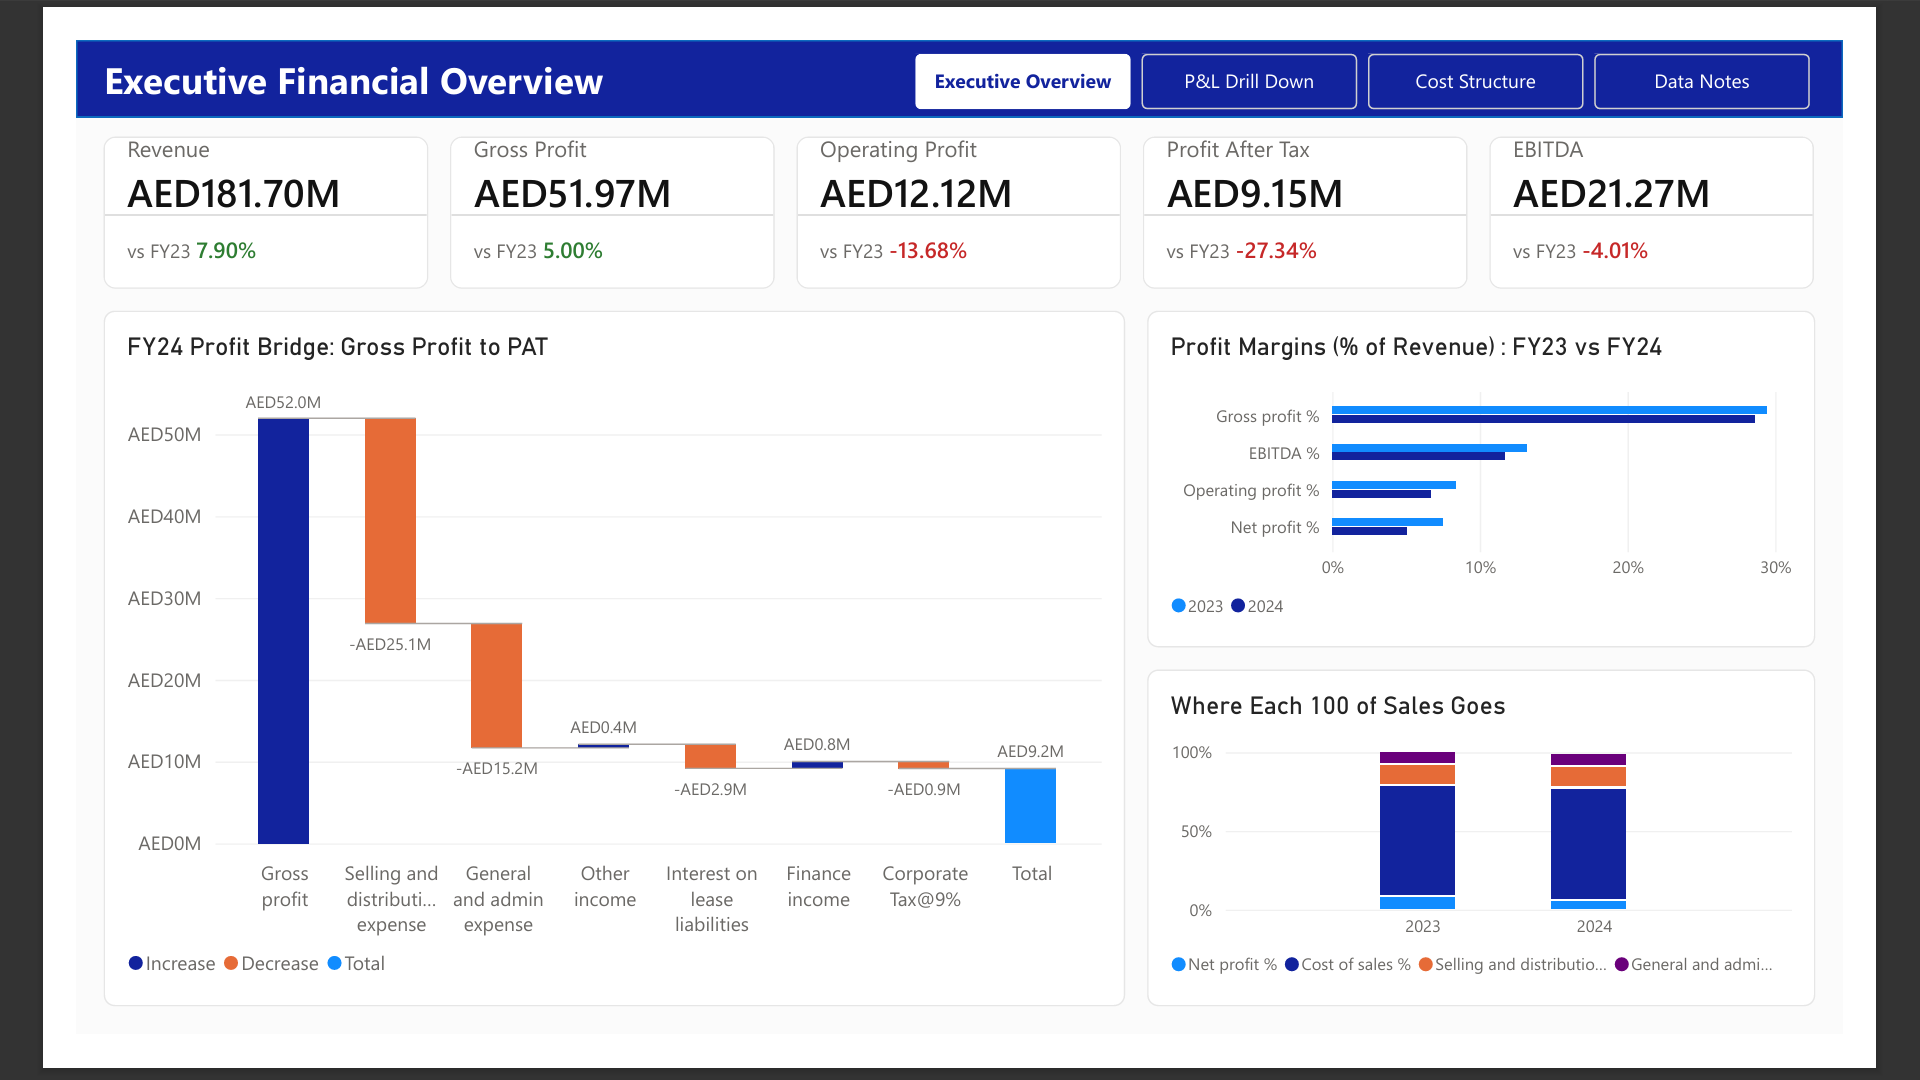

Layout of this report page (visuals, bound fields, positions):
{"tool":"powerbi","page":{"name":"Executive Overview","canvas":[1280,720],"ordinal":0},"visuals":[{"type":"cardVisual","title":"Revenue (AED M)","fields":{"Data":["_Measures.Revenue FY24"]},"box":[20,70,235,110],"z":0},{"type":"waterfallChart","title":"FY24 Profit Bridge: Gross Profit to PAT","fields":{"Category":["Fact_Benchmark.Metric"],"Y":["Sum(Fact_Benchmark.Value)"]},"box":[20,196,740,504],"z":1000},{"type":"columnChart","title":"Where Each 100 of Sales Goes","fields":{"Category":["Fact_Benchmark.Year"],"Series":["Fact_Benchmark.Metric"],"Y":["_Measures.Margin Value"]},"box":[776,456,484,244],"z":2000},{"type":"clusteredBarChart","title":"Profit Margins (% of Revenue) : FY23 vs FY24","fields":{"Category":["Fact_Benchmark.Metric"],"Series":["Fact_Benchmark.Year"],"Y":["_Measures.Margin Value"]},"box":[776,196,484,244],"z":3000},{"type":"cardVisual","title":"Revenue (AED M)","fields":{"Data":["_Measures.Gross Profit FY24"]},"box":[271,70,235,110],"z":4000},{"type":"cardVisual","title":"Revenue (AED M)","fields":{"Data":["_Measures.Operating Profit FY24"]},"box":[522,70,235,110],"z":5000},{"type":"cardVisual","title":"Revenue (AED M)","fields":{"Data":["_Measures.PAT FY24"]},"box":[773.3,70,235,110],"z":6000},{"type":"shape","title":"Executive Financial Overview","box":[0,0,1280,56],"z":7000},{"type":"cardVisual","title":"Revenue (AED M)","fields":{"Data":["_Measures.EBITDA FY24"]},"box":[1024,70,235,110],"z":8000},{"type":"pageNavigator","box":[608.3,10,651.7,40],"z":9000},{"type":"textbox","box":[20,10,575,40],"z":10000}]}

Visuals, with their boxes in screenshot pixels (x1, y1, x2, y2), scaled from the page's 1280x720 canvas onto the 1920x1080 screenshot:
"Revenue (AED M)" cardVisual: x1=30, y1=105, x2=382, y2=270
"FY24 Profit Bridge: Gross Profit to PAT" waterfallChart: x1=30, y1=294, x2=1140, y2=1050
"Where Each 100 of Sales Goes" columnChart: x1=1164, y1=684, x2=1890, y2=1050
"Profit Margins (% of Revenue) : FY23 vs FY24" clusteredBarChart: x1=1164, y1=294, x2=1890, y2=660
"Revenue (AED M)" cardVisual: x1=406, y1=105, x2=759, y2=270
"Revenue (AED M)" cardVisual: x1=783, y1=105, x2=1136, y2=270
"Revenue (AED M)" cardVisual: x1=1160, y1=105, x2=1512, y2=270
"Executive Financial Overview" shape: x1=0, y1=0, x2=1919, y2=84
"Revenue (AED M)" cardVisual: x1=1536, y1=105, x2=1888, y2=270
pageNavigator: x1=912, y1=15, x2=1890, y2=75
textbox: x1=30, y1=15, x2=892, y2=75
